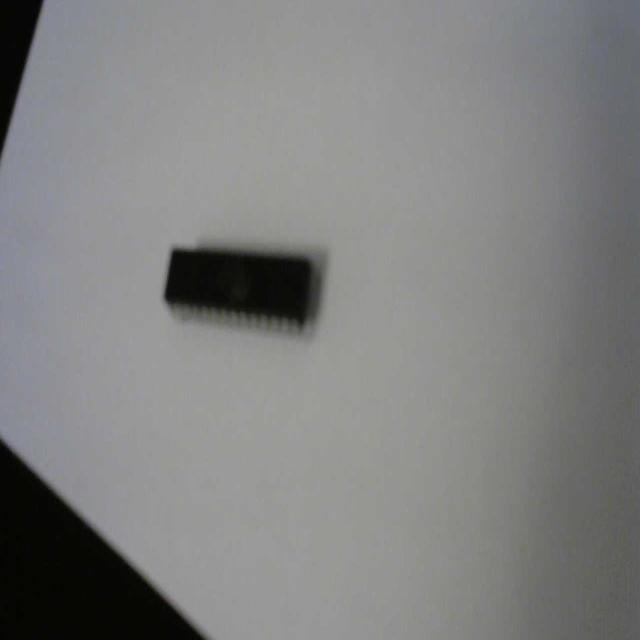atmega: (160, 238, 324, 342)
